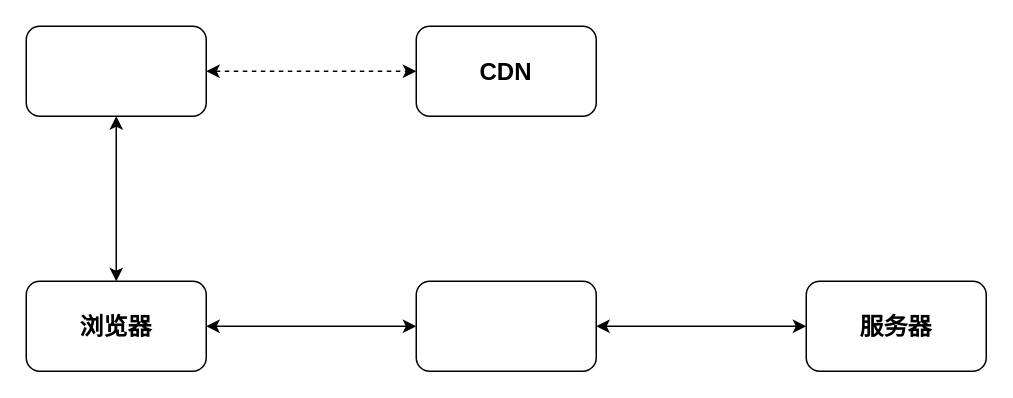
Image size: 1013x398. Some labels were removed from this diagram. The centre of each missing label's shape, as x and y in pixels:
"域名解析" goes at (115,70).
"负载均衡" goes at (505,325).
